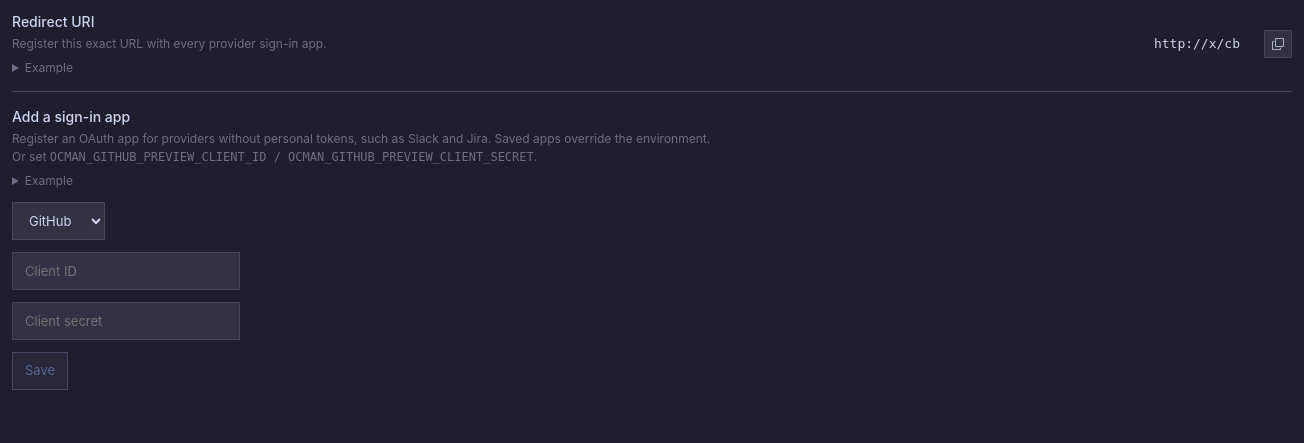
shows a save error from the server
The width and height of the screenshot is (1304, 443).
In the field labelled "Client ID": (126, 271) left=12, top=252, right=240, bottom=290, type "gid"
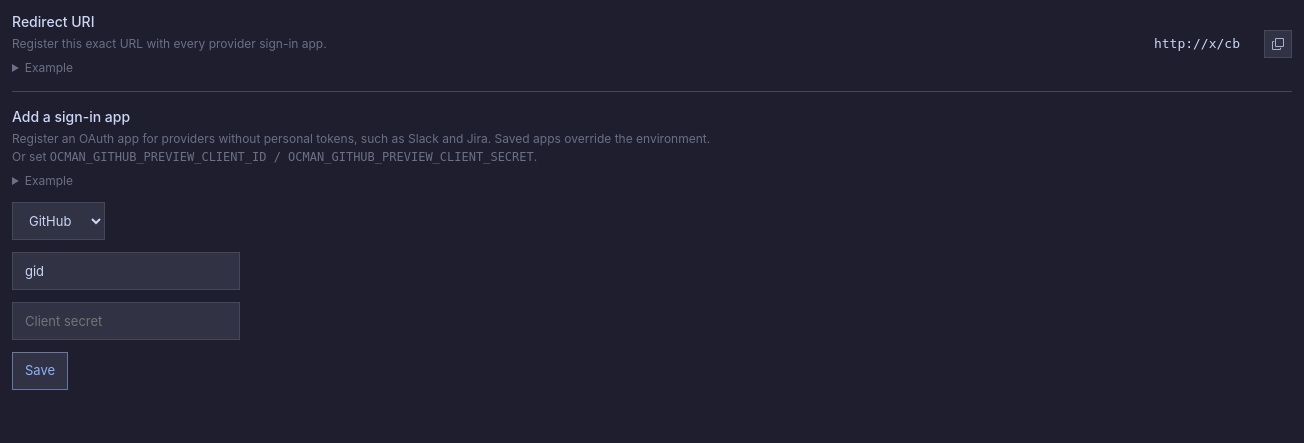
Click the button "Save": (40, 371) left=12, top=352, right=68, bottom=390
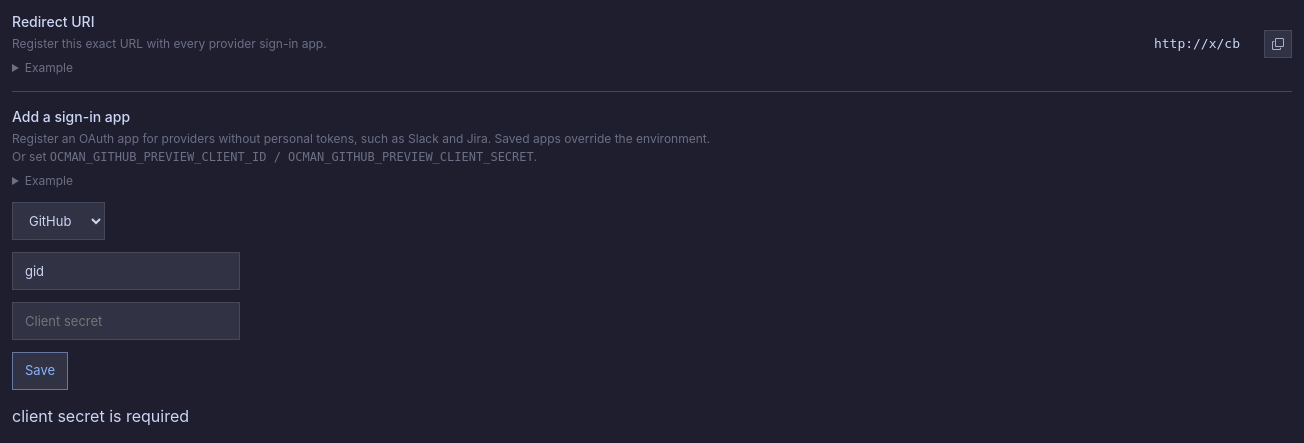
Expected: the message "client secret is required" is shown, left=12, top=406, right=189, bottom=426
